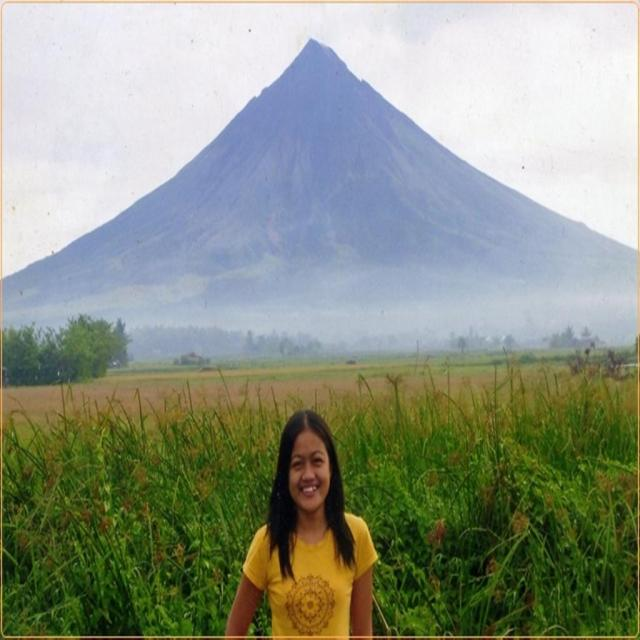nomask: (290, 429, 332, 517)
